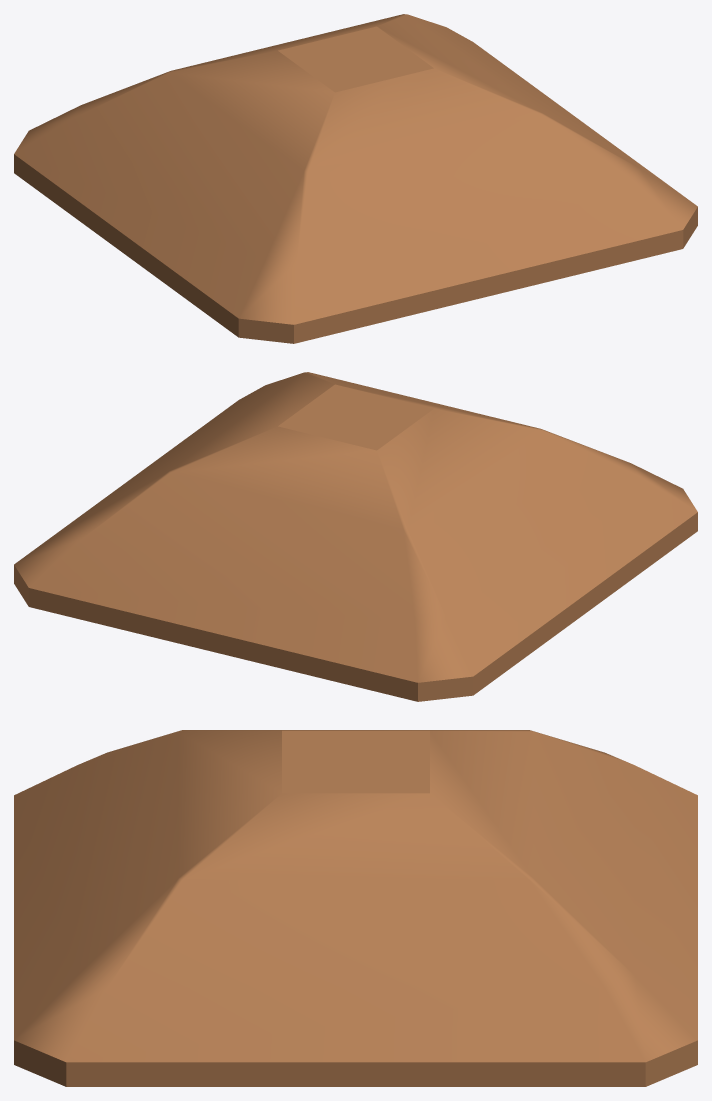
The model's file is SM_Roof_c_01.fbx.
The picture shows the model from 3 angles, top to bottom: view 1: azimuth 30°, elevation 25°; view 2: azimuth 150°, elevation 25°; view 3: azimuth 270°, elevation 25°; orthographic projection. The views are drawn at different scales.
Parts seen in each view (by area): view 1: SM_Roof_c_01; view 2: SM_Roof_c_01; view 3: SM_Roof_c_01.
Part boxes in pixels (left/top/right/bottom): SM_Roof_c_01: left=14, top=14, right=697, bottom=343; SM_Roof_c_01: left=14, top=372, right=697, bottom=701; SM_Roof_c_01: left=14, top=730, right=697, bottom=1086.
Size of the model in its own units: 7.76 by 2.26 by 7.76.
